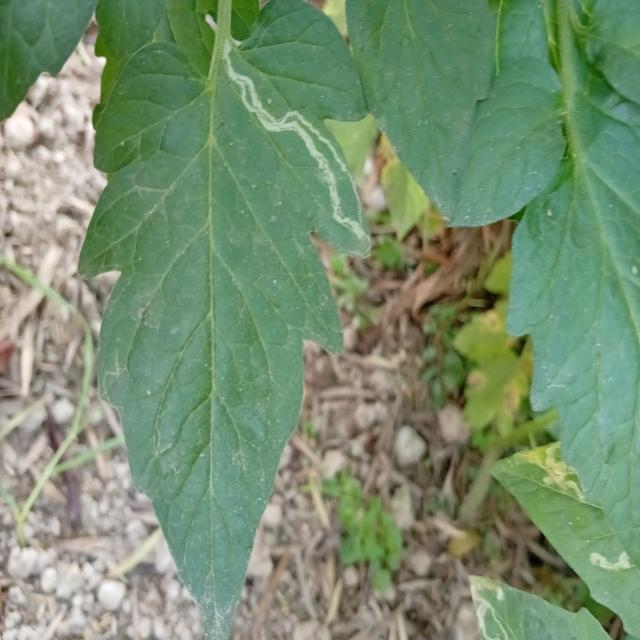Tuta absoluta: (206, 30, 390, 245)
